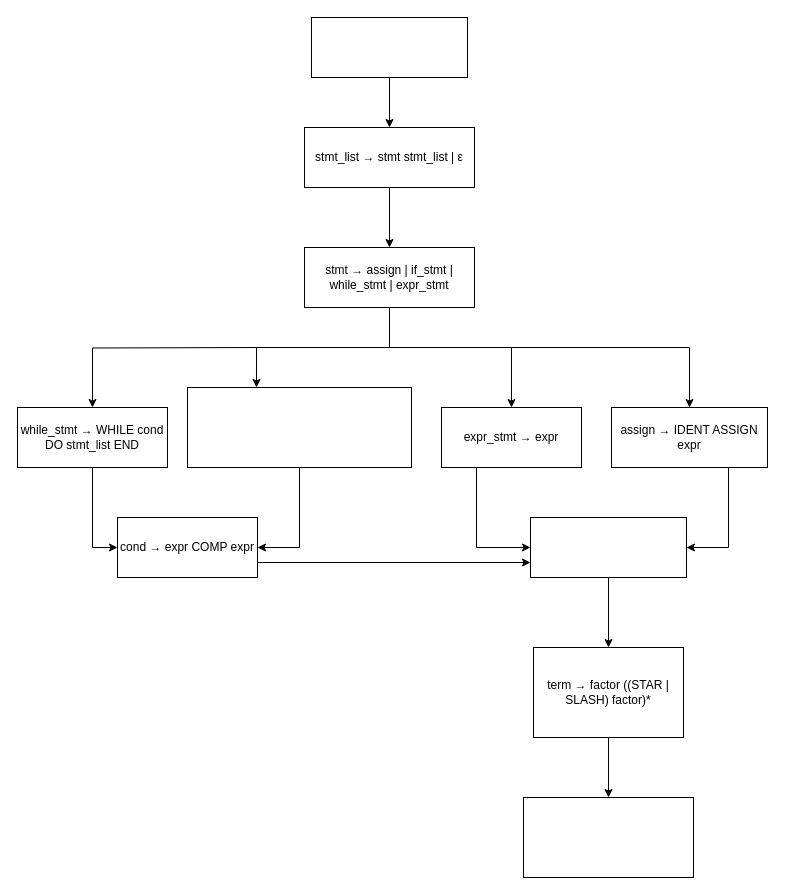
Image size: 785x895. Some labels were removed from this diagram. Each missing label, with the box of its shape:
expr → expr PLUS term | expr MINUS term | term: (530, 516, 686, 578)
factor → NUMBER | IDENT | LPAREN expr RPAREN | MINUS factor: (522, 796, 694, 878)
if_stmt → IF cond THEN stmt_list END | IF cond THEN stmt_list ELSE stmt_list END: (186, 386, 412, 468)
program → stmt_list EOF: (310, 16, 468, 78)
